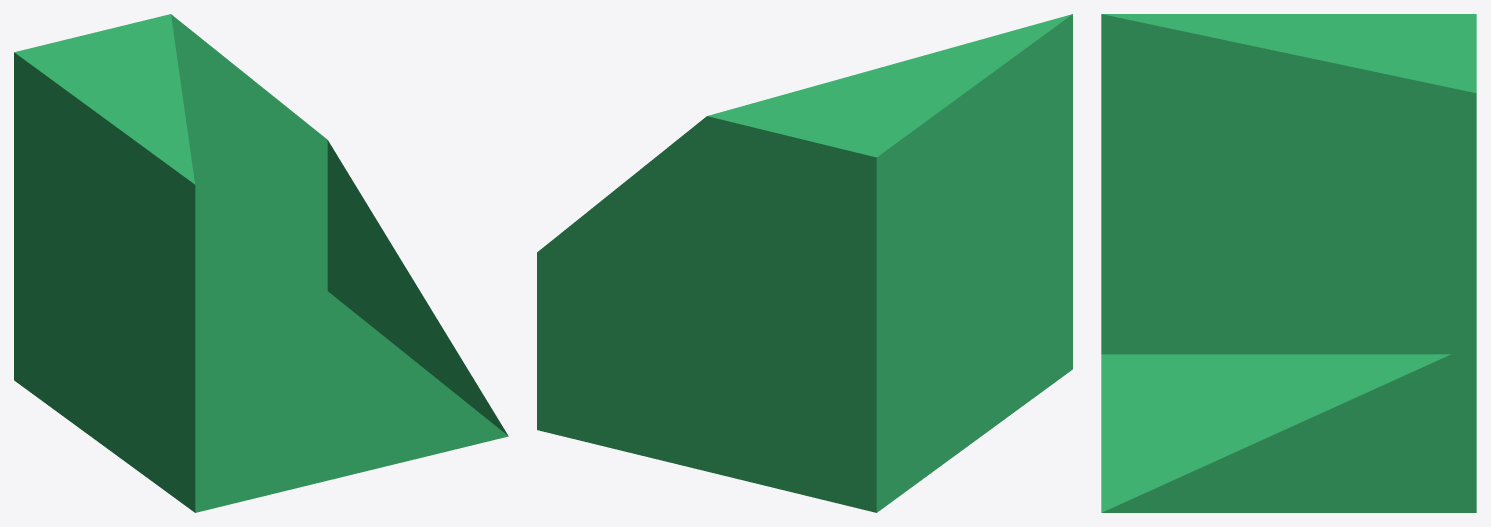
The model's file is r5c3_body_green.gltf.
The picture shows the model from 3 angles, left to right: view 1: azimuth 30°, elevation 25°; view 2: azimuth 150°, elevation 25°; view 3: azimuth 270°, elevation 25°; orthographic projection. The views are drawn at different scales.
Visible parts, largest first — view 1: r5c3_body_green; view 2: r5c3_body_green; view 3: r5c3_body_green.
Part boxes in pixels (x1=…): r5c3_body_green: x1=14, y1=14, x2=508, y2=512; r5c3_body_green: x1=537, y1=14, x2=1072, y2=512; r5c3_body_green: x1=1101, y1=14, x2=1476, y2=512.
Size of the model in its own units: 2 by 2 by 2.
1 material, 1 textured.
